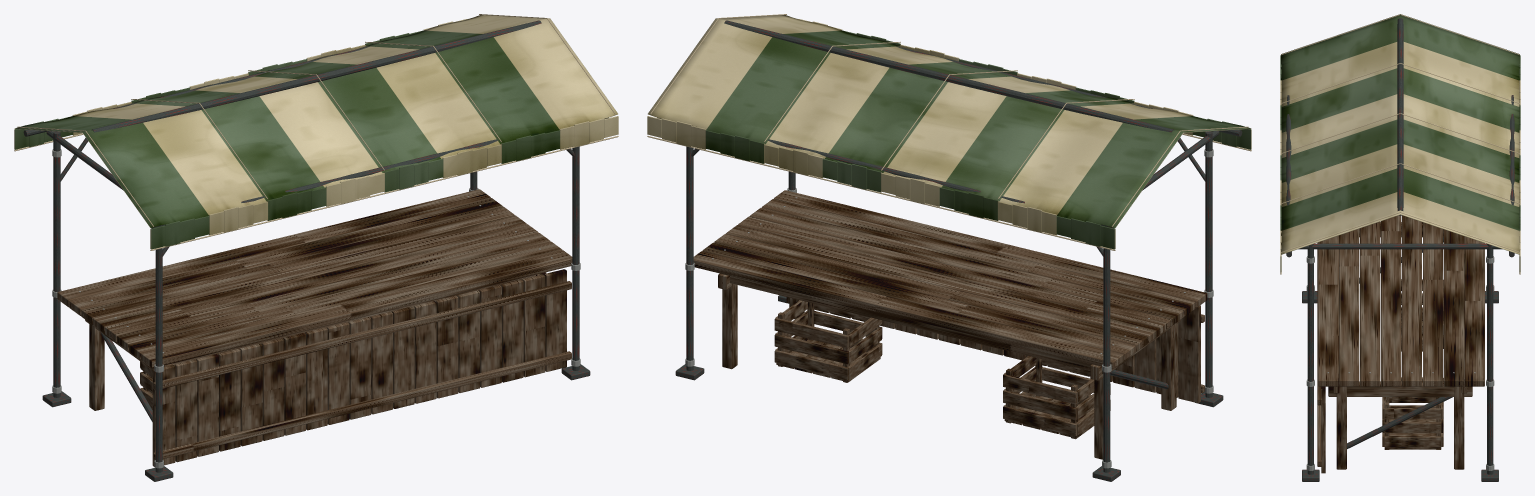
The model's file is stragan.glb.
The picture shows the model from 3 angles, left to right: view 1: azimuth 30°, elevation 25°; view 2: azimuth 150°, elevation 25°; view 3: azimuth 270°, elevation 25°; orthographic projection. The views are drawn at different scales.
Visible parts, largest first — view 1: Striped canvas roof, Counter plank 00, Counter plank 01, Counter plank 06, Counter plank 07, Counter plank 04, Counter plank 02, Counter plank 03, Counter plank 05, Front horizontal batten.001, Front horizontal batten, Ridge beam (+28 smaller); view 2: Striped canvas roof, Counter plank 07, Counter plank 02, Counter plank 03, Counter plank 00, Counter plank 01, Counter plank 06, Counter plank 05, Counter plank 04, Ridge beam, Long apron.001, Front reclaimed board (+16 smaller); view 3: Striped canvas roof, Counter plank 03, Counter plank 02, Counter plank 04, Counter plank 01, Counter plank 06, Counter plank 05, Counter plank 00, Counter plank 07, Galvanized upright.002, Galvanized upright.003, Table cross support.001 (+14 smaller).
Boxes of the visible parts, x1=… form: Striped canvas roof: x1=14, y1=15, x2=617, y2=228; Counter plank 00: x1=140, y1=250, x2=572, y2=368; Counter plank 01: x1=128, y1=241, x2=562, y2=359; Counter plank 06: x1=69, y1=198, x2=502, y2=315; Counter plank 07: x1=57, y1=189, x2=490, y2=307; Counter plank 04: x1=93, y1=215, x2=526, y2=333; Counter plank 02: x1=117, y1=233, x2=550, y2=350; Counter plank 03: x1=105, y1=224, x2=538, y2=341; Counter plank 05: x1=81, y1=206, x2=514, y2=324; Front horizontal batten.001: x1=153, y1=281, x2=571, y2=390; Front horizontal batten: x1=153, y1=351, x2=571, y2=459; Ridge beam: x1=91, y1=20, x2=541, y2=132; Striped canvas roof: x1=648, y1=15, x2=1251, y2=228; Counter plank 07: x1=693, y1=251, x2=1123, y2=369; Counter plank 02: x1=750, y1=207, x2=1183, y2=325; Counter plank 03: x1=738, y1=216, x2=1171, y2=334; Counter plank 00: x1=774, y1=190, x2=1207, y2=307; Counter plank 01: x1=762, y1=199, x2=1195, y2=316; Counter plank 06: x1=702, y1=242, x2=1135, y2=360; Counter plank 05: x1=714, y1=233, x2=1147, y2=351; Counter plank 04: x1=726, y1=225, x2=1159, y2=342; Ridge beam: x1=724, y1=20, x2=1174, y2=132; Long apron.001: x1=730, y1=276, x2=1103, y2=373; Front reclaimed board: x1=1178, y1=305, x2=1200, y2=403; Striped canvas roof: x1=1281, y1=14, x2=1519, y2=254; Counter plank 03: x1=1381, y1=215, x2=1401, y2=386; Counter plank 02: x1=1360, y1=222, x2=1380, y2=386; Counter plank 04: x1=1402, y1=215, x2=1421, y2=386; Counter plank 01: x1=1339, y1=229, x2=1359, y2=386; Counter plank 06: x1=1443, y1=229, x2=1463, y2=386; Counter plank 05: x1=1423, y1=222, x2=1442, y2=386; Counter plank 00: x1=1318, y1=236, x2=1338, y2=386; Counter plank 07: x1=1464, y1=236, x2=1484, y2=386; Galvanized upright.002: x1=1307, y1=244, x2=1313, y2=474; Galvanized upright.003: x1=1487, y1=244, x2=1493, y2=474; Table cross support.001: x1=1328, y1=381, x2=1472, y2=396.
Bounding box in the file's own units: 4.6 × 2.95 × 2.33.
Materials: 5 (3 with a texture image).
